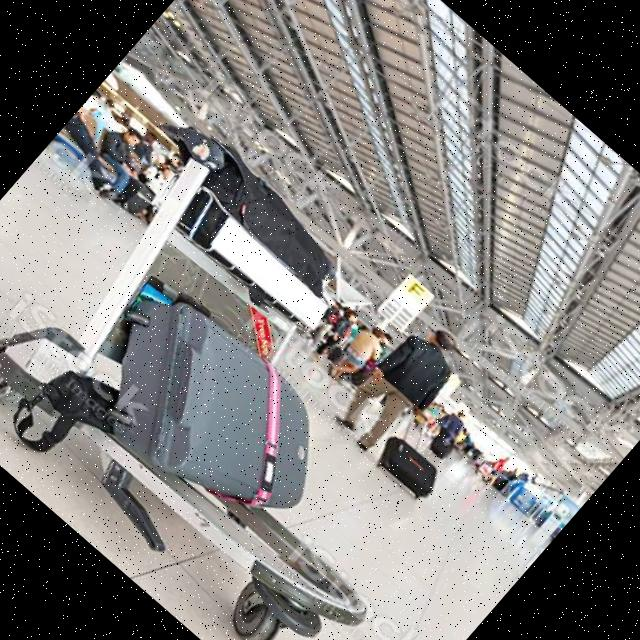Person: (328, 312, 472, 464)
